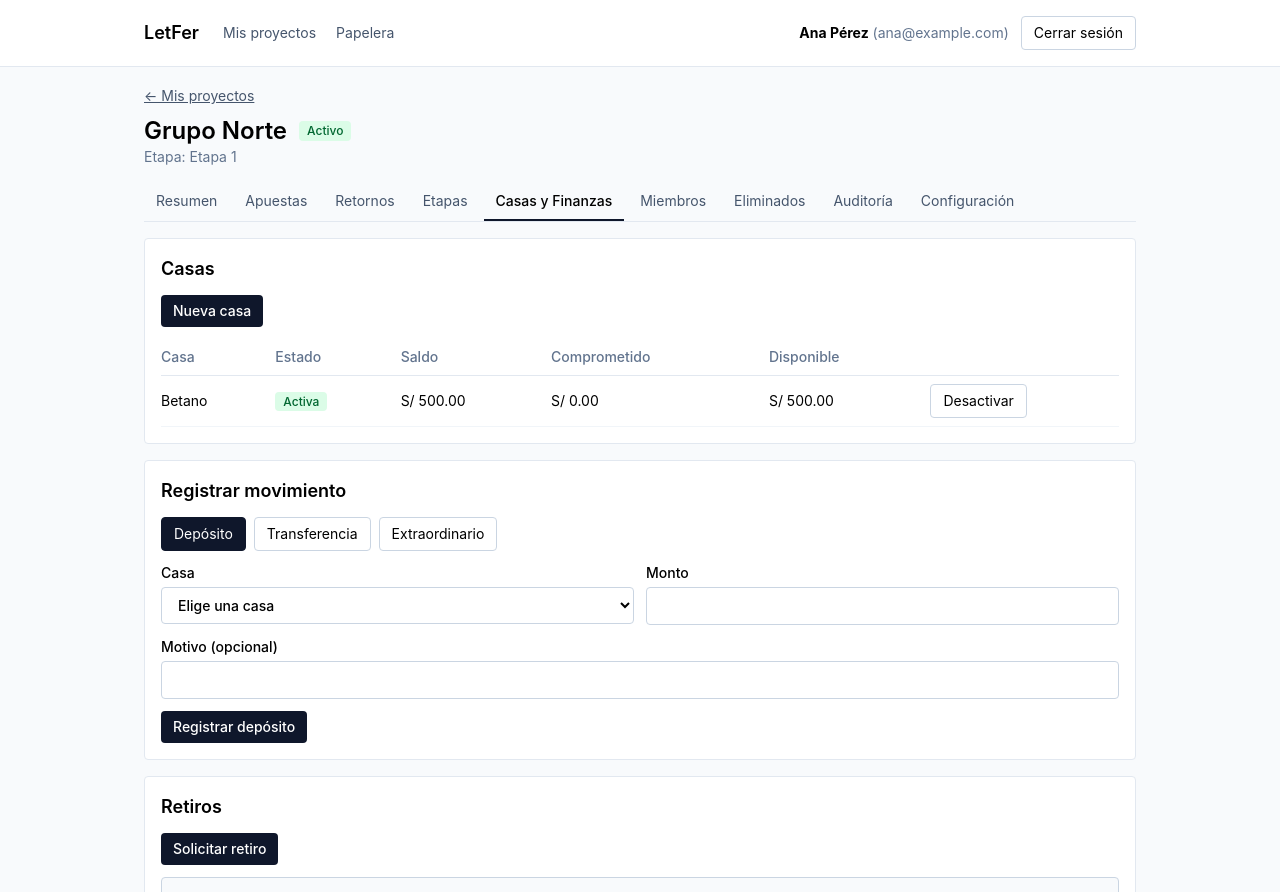
Test: casas y finanzas del proyecto (§13-§17, §49) › desactiva y reactiva una casa
Click the button with aria-label "Desactivar Betano" at (979, 401), box [930,384,1027,418]
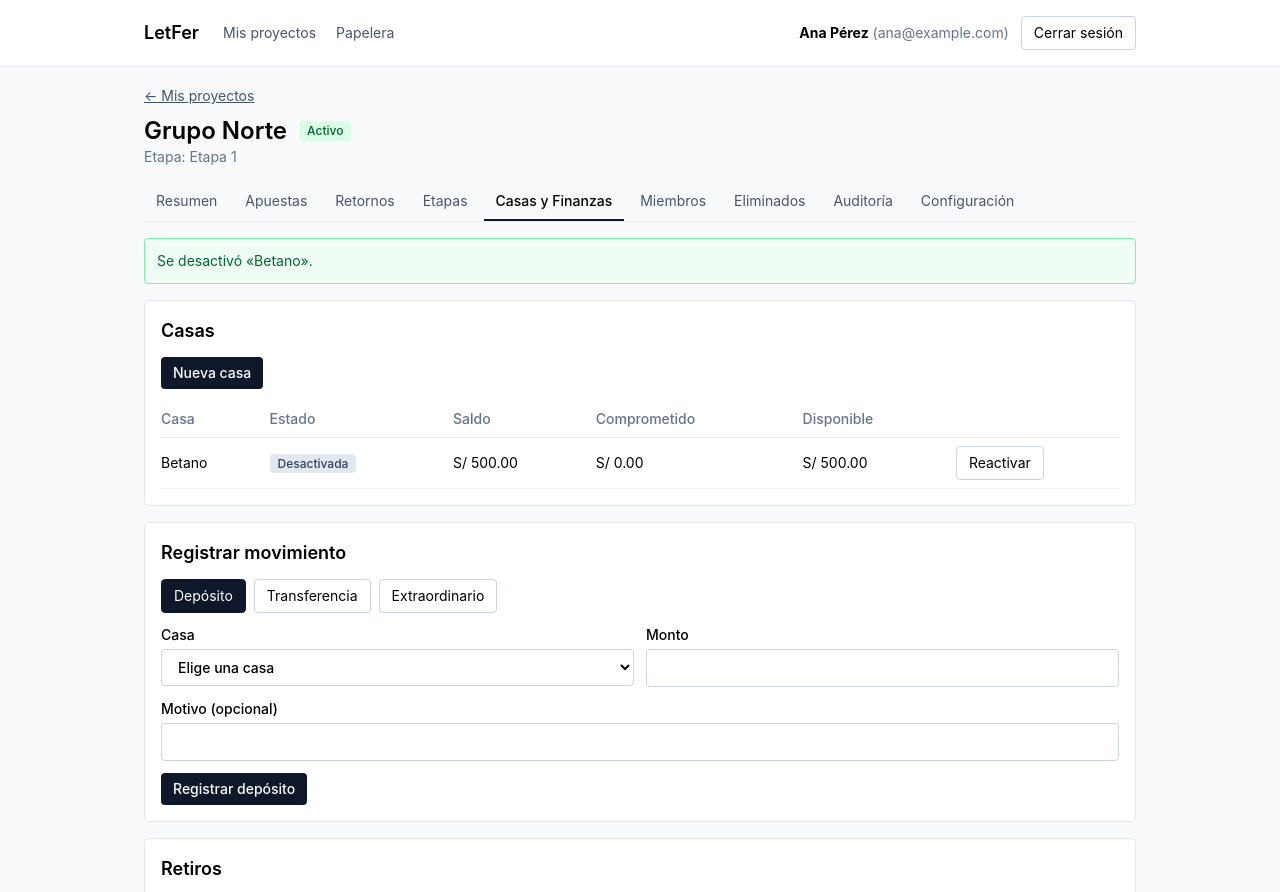
Expected: the text "Se desactivó «Betano»." is shown, [144,238,1136,284]
Expected: the button with aria-label "Reactivar Betano" is shown, [956,446,1044,480]
